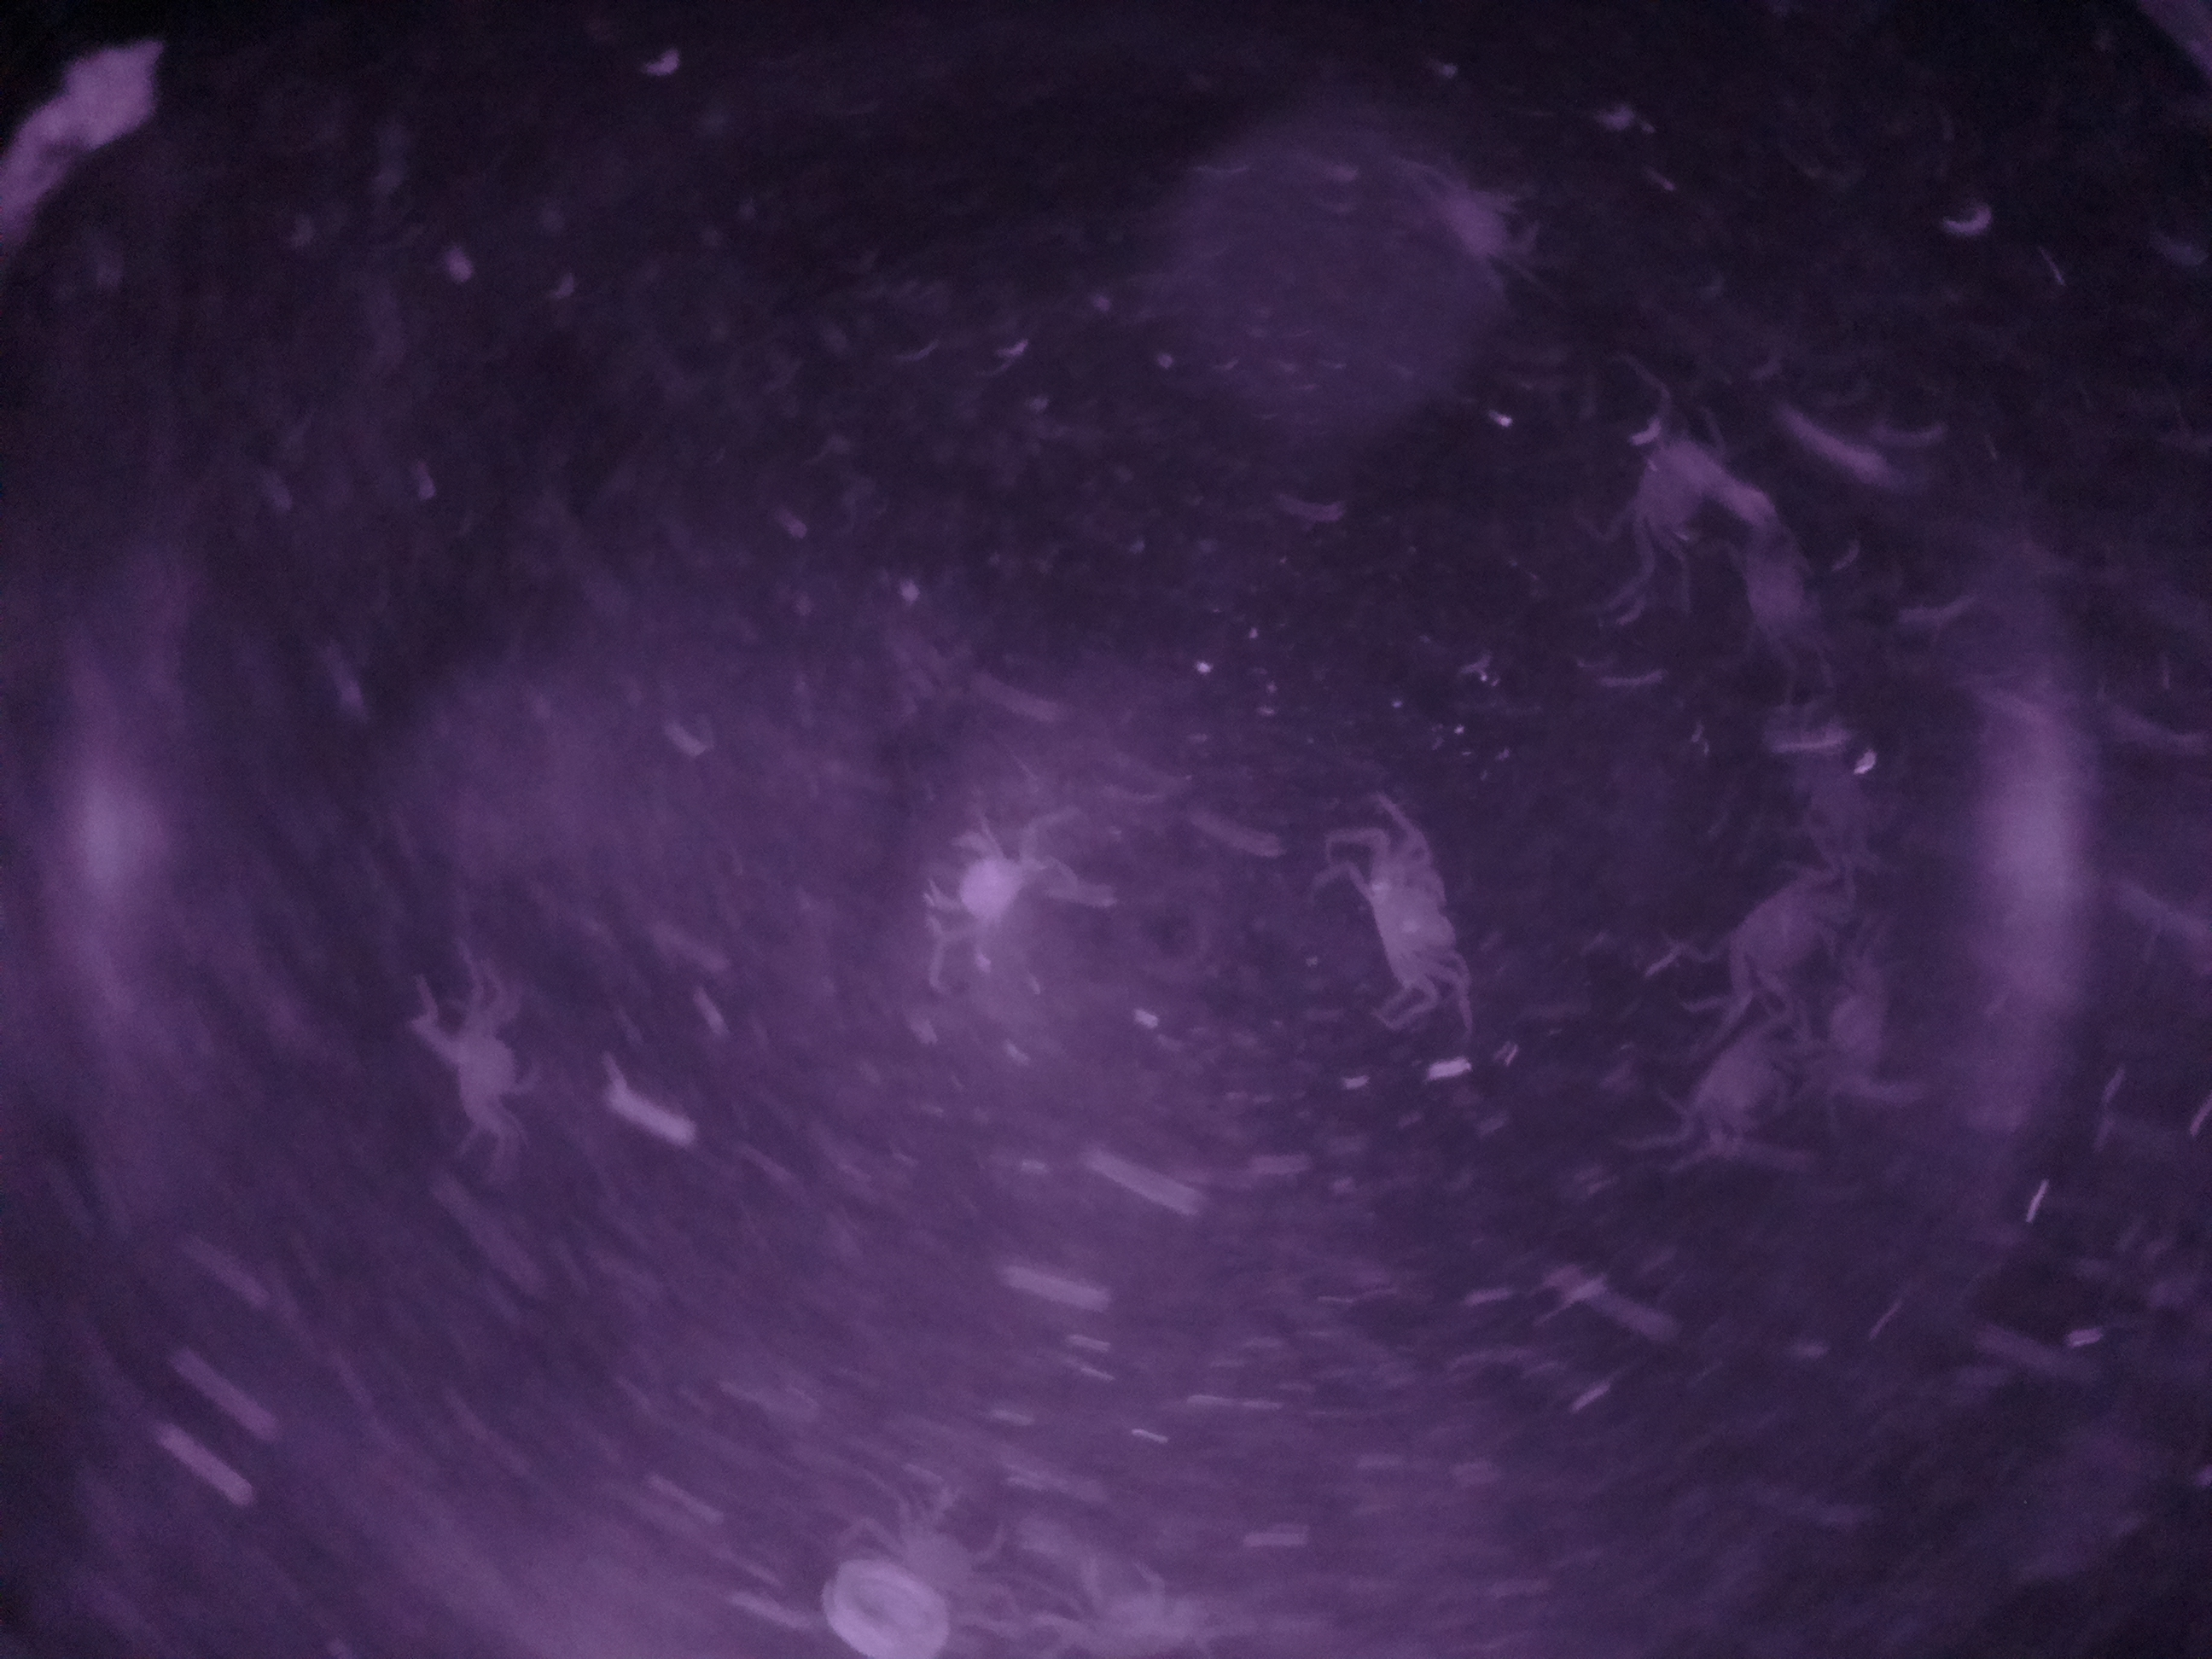Crab: (1357, 829, 1472, 1032)
